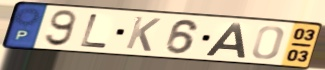0: (250, 25, 287, 61)
6: (164, 18, 201, 55)
9: (43, 8, 80, 49)
A: (202, 22, 247, 59)
K: (123, 15, 164, 53)
L: (78, 12, 111, 50)
